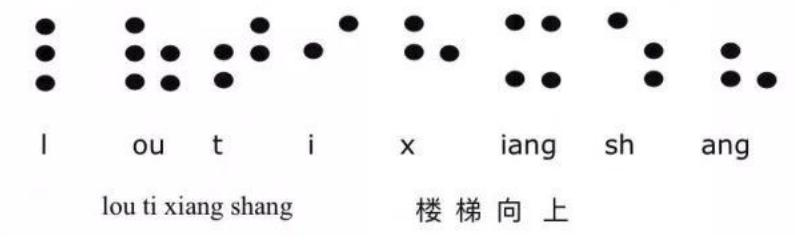Braille: (719, 9, 778, 88), (33, 17, 95, 92), (607, 11, 665, 89), (123, 16, 181, 92), (505, 13, 562, 89), (212, 17, 271, 90), (403, 14, 461, 88), (303, 14, 358, 89)
